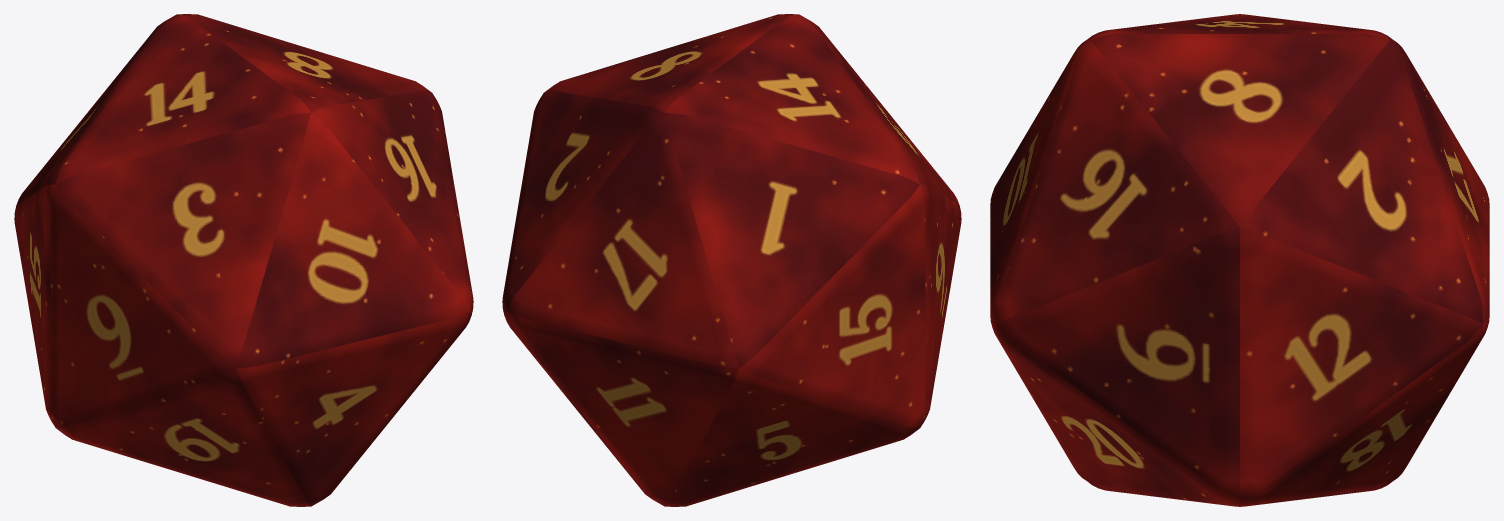
3 renders of one model, left to right at view 1: azimuth 30°, elevation 25°; view 2: azimuth 150°, elevation 25°; view 3: azimuth 270°, elevation 25°, orthographic. The views are drawn at different scales.
Visible parts, largest first — view 1: d20; view 2: d20; view 3: d20.
Boxes of the visible parts, x1,y1,x2,y2 form: d20: [14, 14, 473, 506]; d20: [502, 14, 961, 506]; d20: [990, 14, 1489, 506].
Bounding box in the file's own units: 1.68 × 1.68 × 1.68.
1 material, 1 textured.
